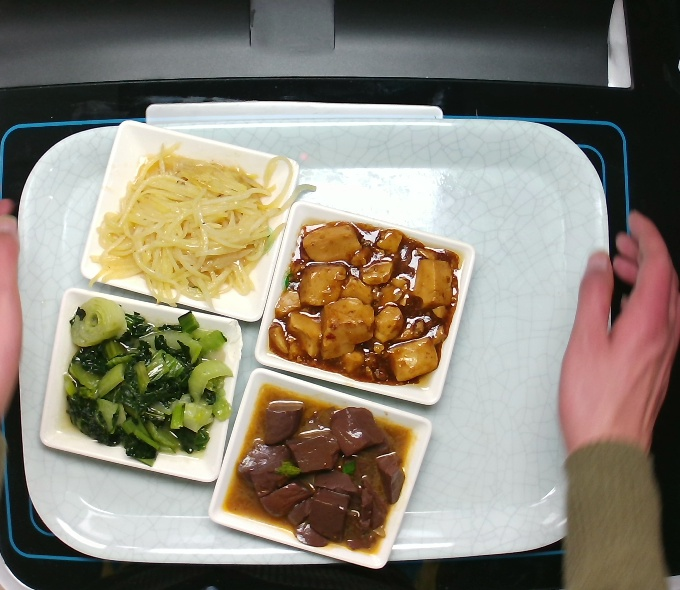wcq-MaPoDouFu: (267, 216, 462, 392)
wcq-NiuXue: (228, 384, 415, 560)
wcq-TuDouSi: (93, 131, 292, 315)
wcq-YouDongCai: (43, 286, 242, 470)
